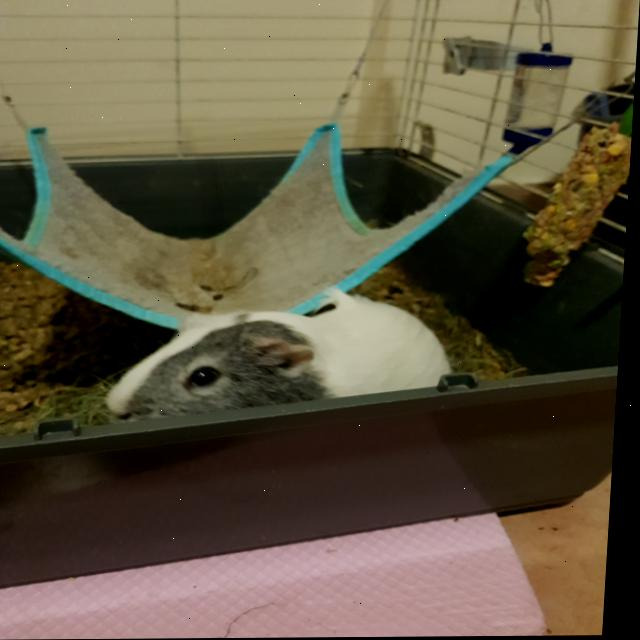guinea pig: (109, 294, 459, 428)
